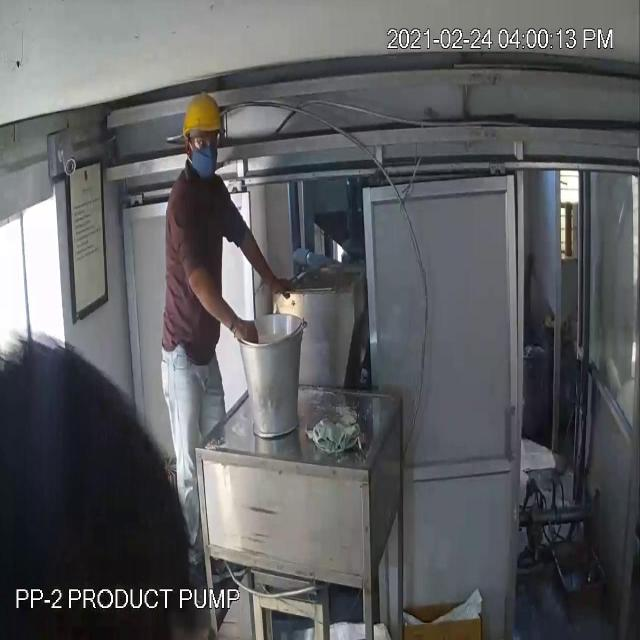helmet: (178, 90, 232, 140)
